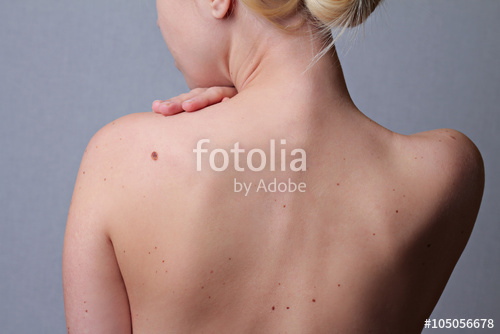mole: (146, 147, 164, 164), (281, 303, 295, 314), (335, 280, 346, 294), (307, 295, 319, 307), (446, 133, 459, 142), (424, 241, 434, 252), (81, 307, 93, 316), (279, 200, 288, 211), (268, 303, 277, 313), (391, 207, 401, 215), (225, 255, 235, 262)
